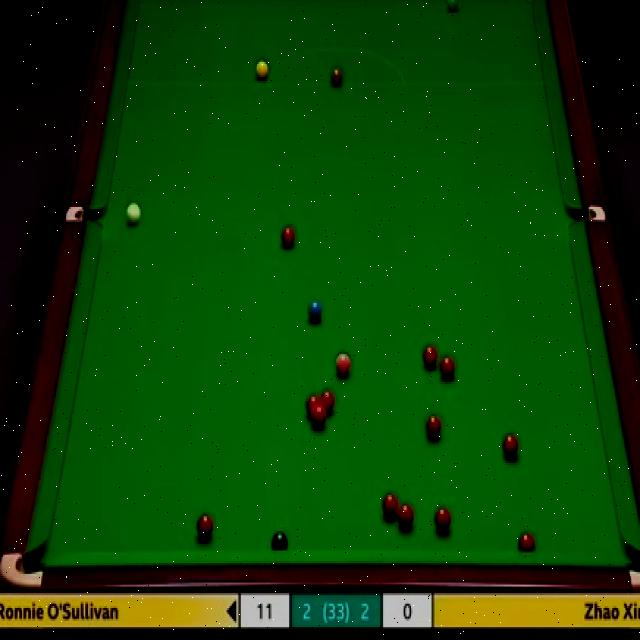black-ball: (270, 530, 290, 552)
blue-ball: (306, 298, 324, 322)
brown-ball: (330, 64, 343, 86)
green-ball: (445, 0, 459, 13)
pink-ball: (335, 353, 352, 379)
red-ball: (433, 507, 452, 536), (195, 512, 213, 541), (398, 500, 414, 531), (439, 353, 455, 384), (381, 494, 399, 520), (502, 433, 520, 459), (425, 411, 441, 440), (422, 343, 439, 370), (306, 394, 320, 421), (320, 390, 335, 415), (517, 531, 536, 550), (312, 408, 328, 429), (281, 225, 295, 247)
white-ball: (124, 203, 143, 226)
yellow-ball: (255, 62, 268, 80)
